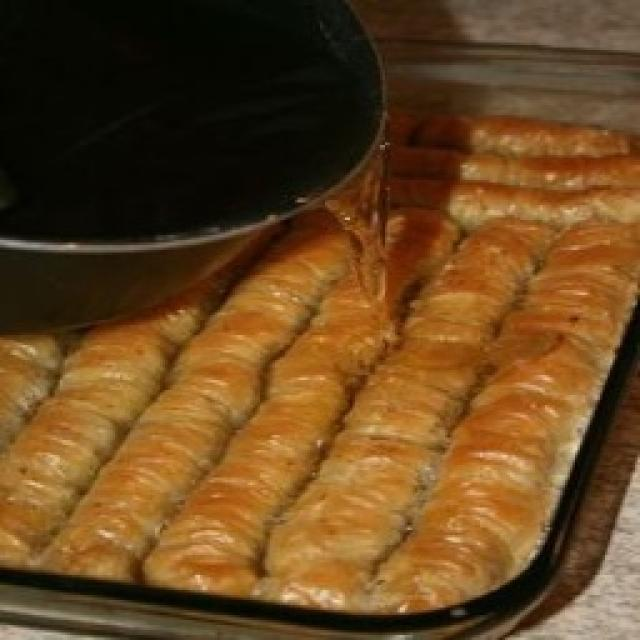Baklawa: (0, 110, 640, 620)
